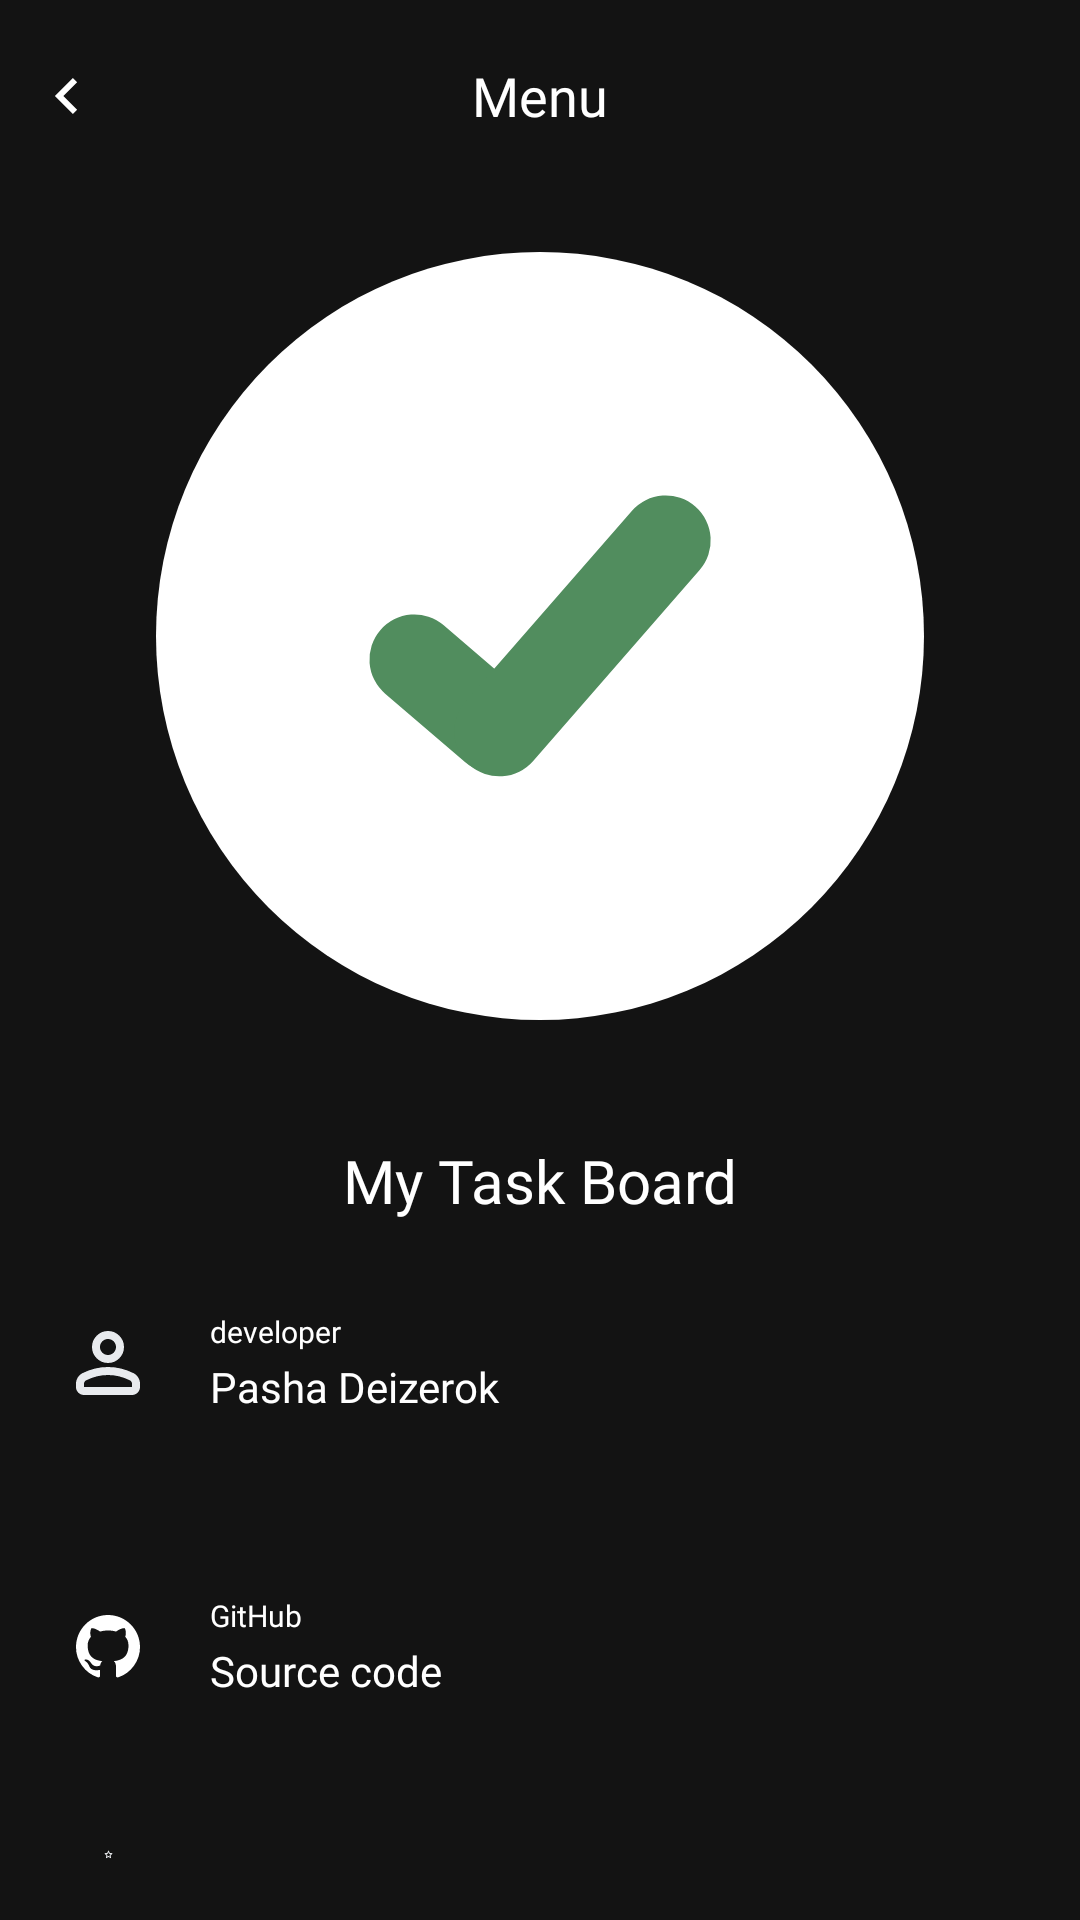

Icon bounding boxes for this 1080 x 1920 phone screenshot, format (x1, y1, x2, y2):
navigate back: (55, 78, 77, 114)
people: (76, 1331, 140, 1395)
